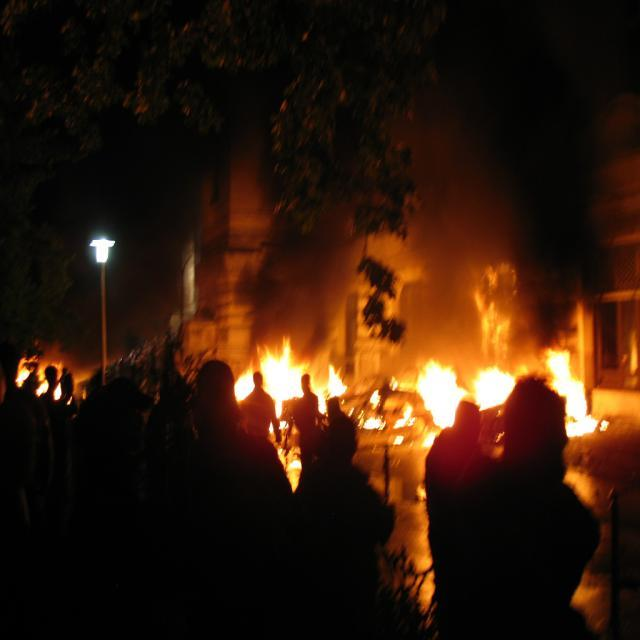Fire: (265, 360, 301, 397), (424, 380, 454, 417), (478, 370, 506, 403), (569, 386, 585, 438), (328, 380, 346, 390)
